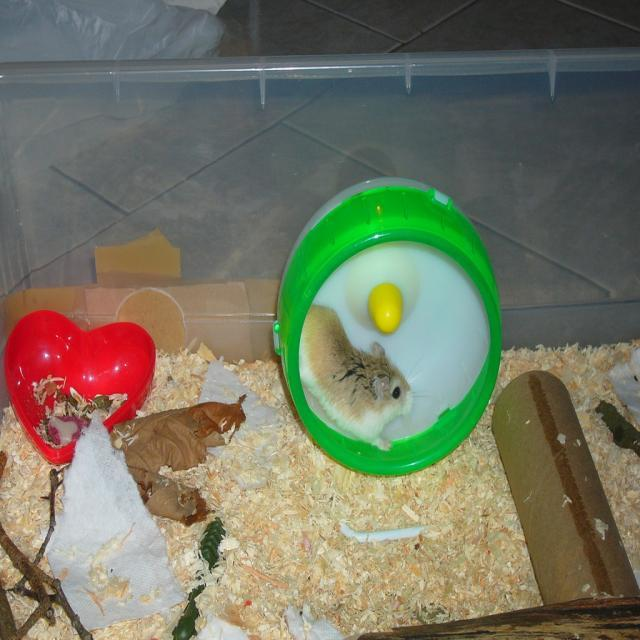rat: (296, 303, 417, 455)
